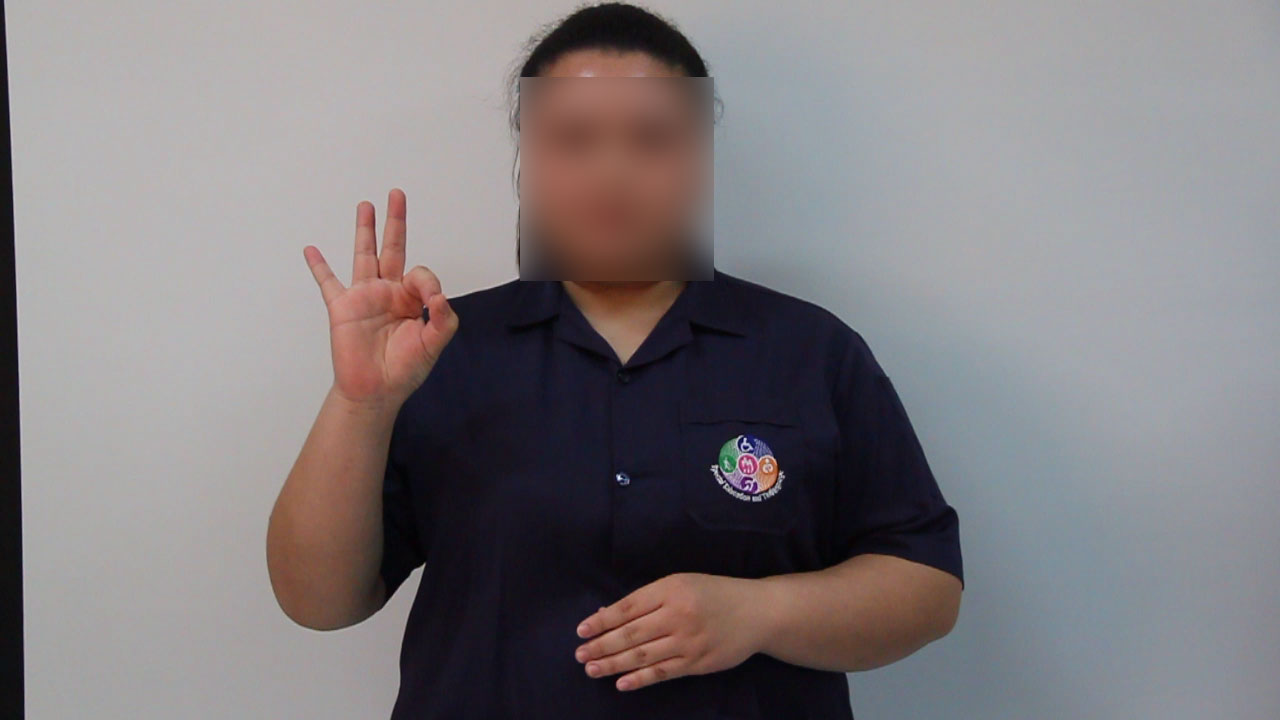for: (289, 174, 471, 416)
